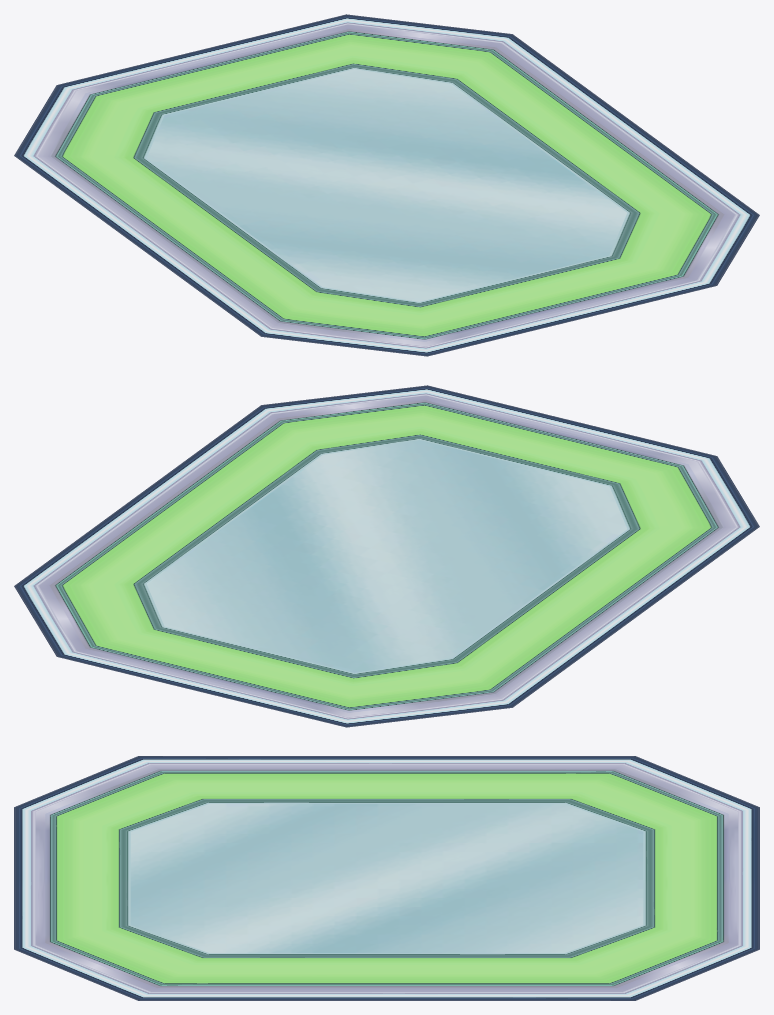
File: my_millenniumlounge_01_carpet_05.glb
3 renders of one model, top to bottom at view 1: azimuth 30°, elevation 25°; view 2: azimuth 150°, elevation 25°; view 3: azimuth 270°, elevation 25°, orthographic.
Visible parts, largest first — view 1: my_millenniumlounge_01_carpet_05; view 2: my_millenniumlounge_01_carpet_05; view 3: my_millenniumlounge_01_carpet_05.
Boxes of the visible parts, x1,y1,x2,y2 form: my_millenniumlounge_01_carpet_05: (14, 14, 759, 356); my_millenniumlounge_01_carpet_05: (14, 385, 759, 727); my_millenniumlounge_01_carpet_05: (14, 756, 759, 1000).
Size of the model in its own units: 0.0176 by 2.33e-12 by 0.0227.
1 material, 1 textured.
